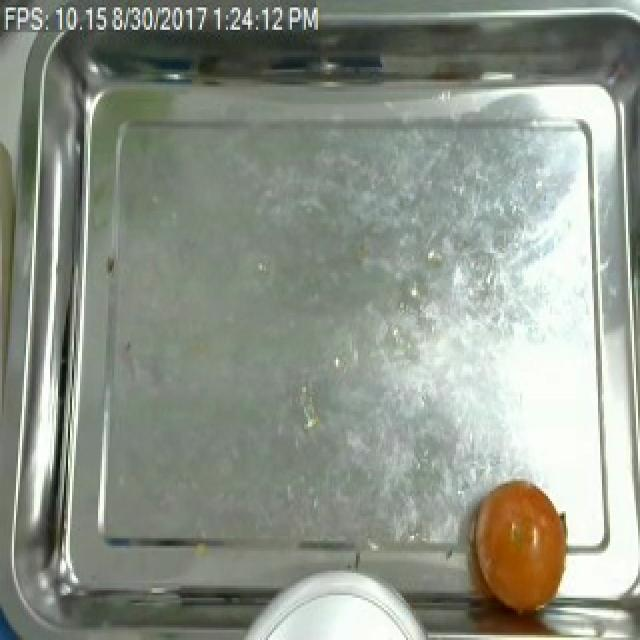Fruit: (464, 473, 576, 618)
